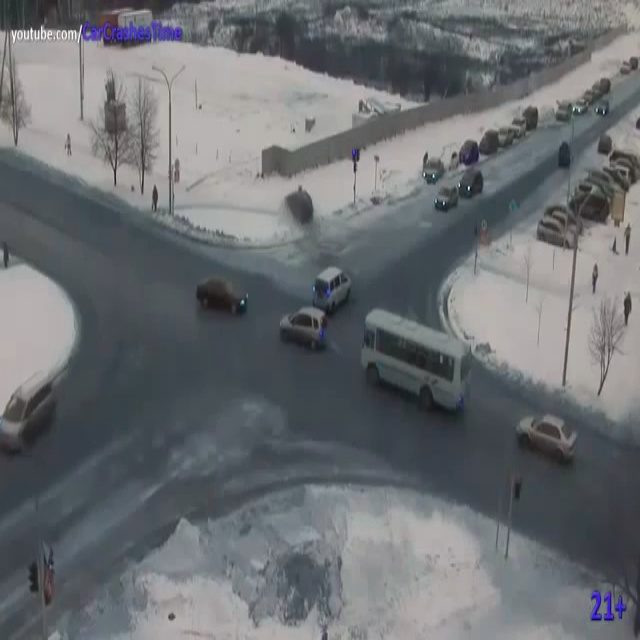acc: (279, 184, 354, 309)
